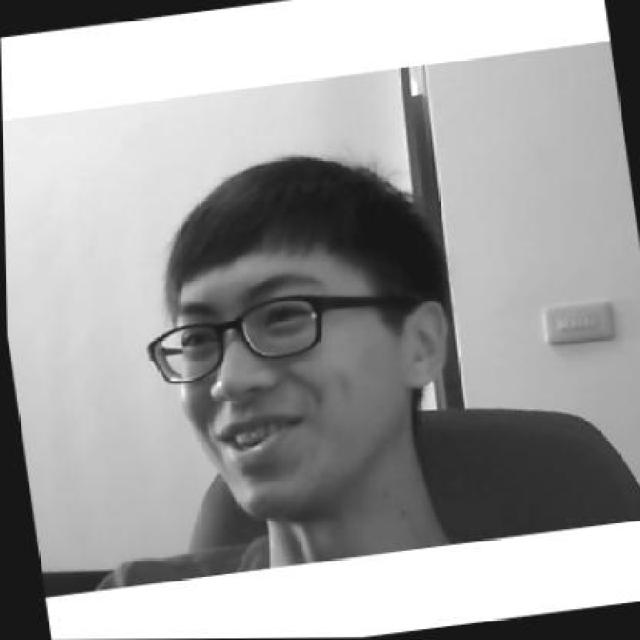attentif: (118, 136, 467, 530)
